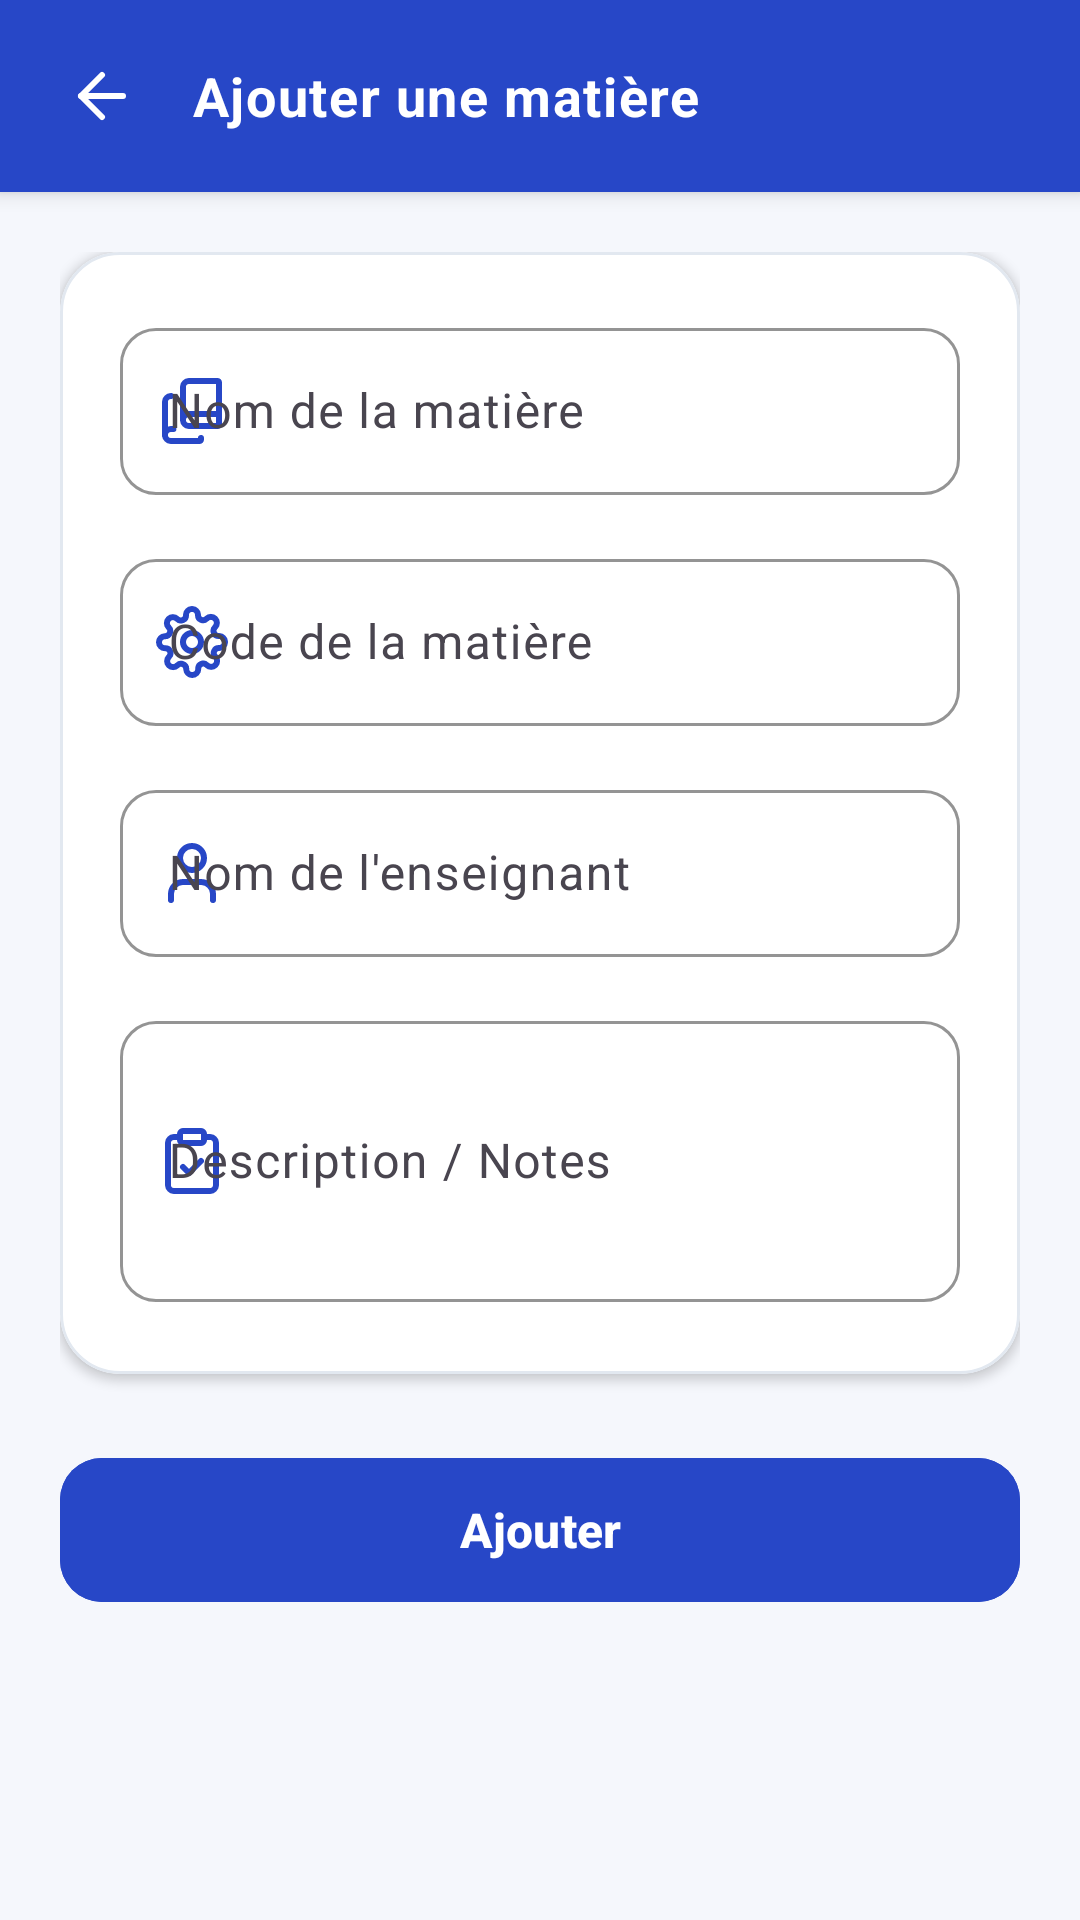

Screen size 1080 × 1920. Icon name, then its box in pixels as (x1, y1, x2, y2):
Bouton retour: (78, 72, 126, 120)
